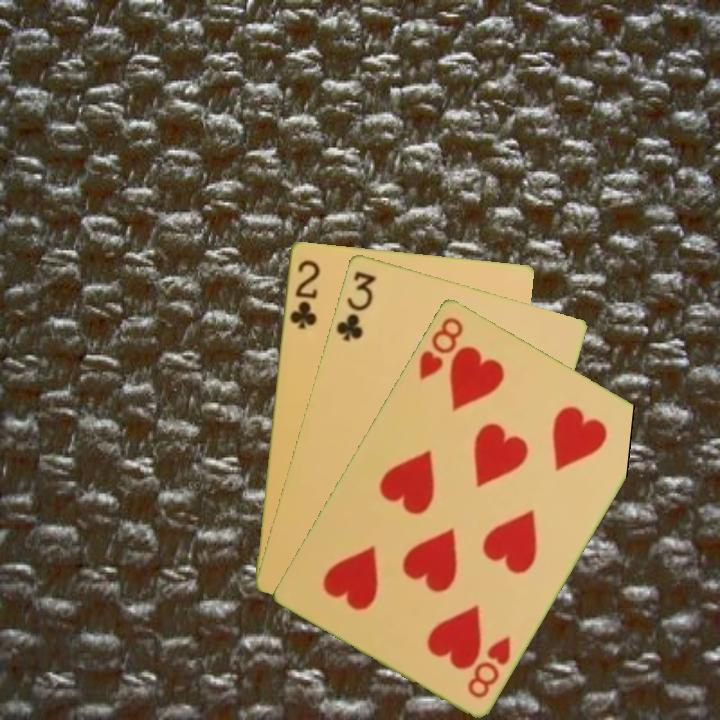2c: (285, 255, 323, 332)
3c: (332, 267, 379, 344)
8h: (415, 312, 466, 382), (463, 631, 514, 701)
